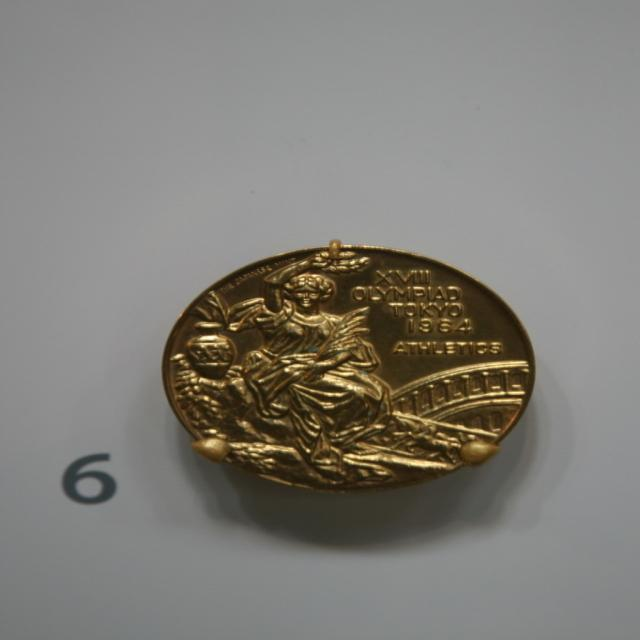Coin: (156, 234, 536, 496)
